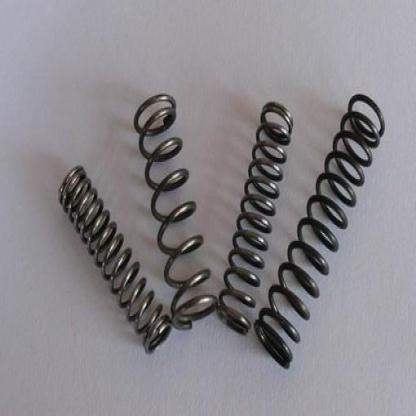FOD: (251, 90, 386, 373), (57, 159, 174, 360), (133, 90, 220, 336), (218, 95, 294, 337)
